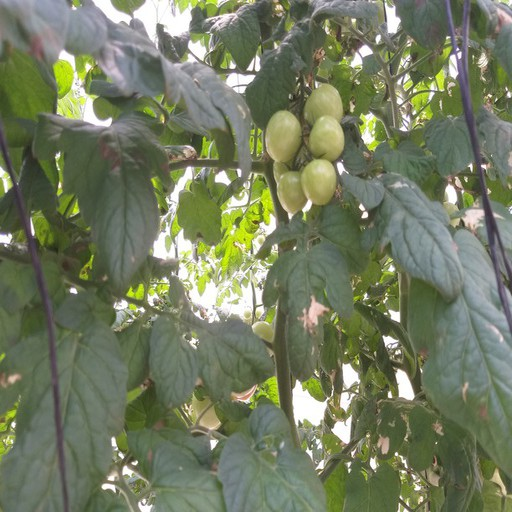green tomato bunch: (265, 84, 343, 215)
